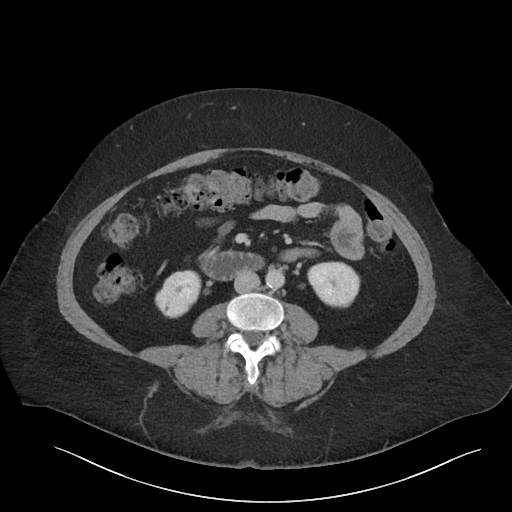Lesion: (164, 304, 170, 312)
